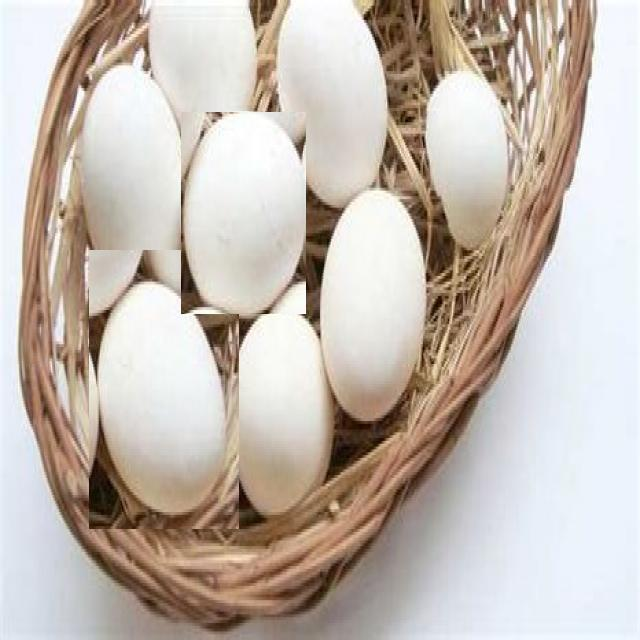Egg: (89, 250, 239, 529), (318, 172, 431, 448), (181, 112, 306, 314)
